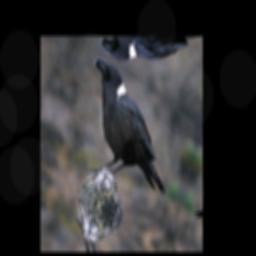Crow: (67, 53, 189, 221)
